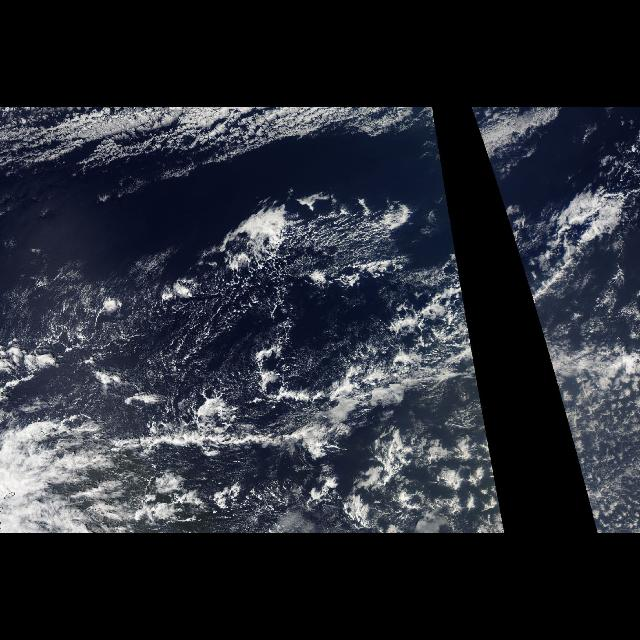Gravel: (142, 194, 422, 358)
Sugar: (1, 248, 306, 428), (566, 386, 640, 534)
